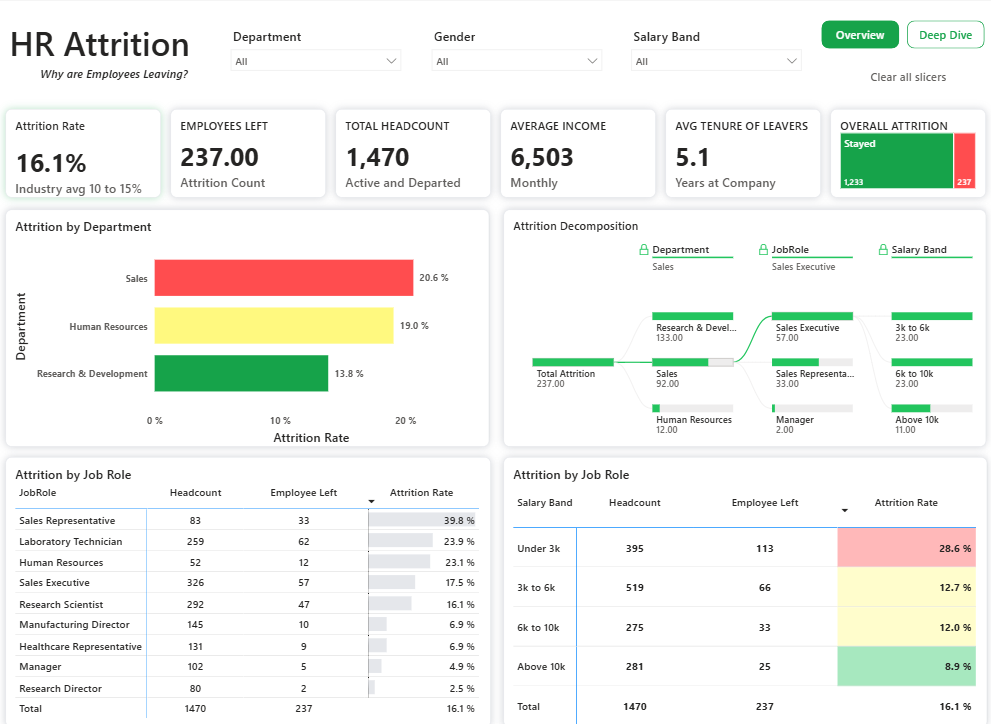

The page's visual inventory and layout, read from the dashboard file:
{"tool":"powerbi","page":{"name":"Overview","canvas":[1300,950],"ordinal":0},"visuals":[{"type":"textbox","box":[18.3,20.1,279.5,84],"z":0},{"type":"textbox","box":[18.3,76.7,279.5,51.2],"z":1000},{"type":"slicer","fields":{"Values":["hr_employees.Department"]},"box":[297.8,29.2,239.3,98.6],"z":2000},{"type":"slicer","fields":{"Values":["hr_employees.Gender"]},"box":[555.4,29.2,239.3,98.6],"z":3000},{"type":"slicer","fields":{"Values":["hr_employees.Salary Band"]},"box":[812.9,29.2,239.3,98.6],"z":4000},{"type":"actionButton","box":[1092.4,78.6,173.5,36.5],"z":5000},{"type":"pageNavigator","box":[1066.9,25.6,211.9,36.5],"z":6000},{"type":"cardVisual","title":"TOTAL HEADCOUNT","fields":{"Data":["hr_employees.Headcount"]},"box":[443,138.8,200,114],"z":7000},{"type":"cardVisual","title":"Attrition Rate","fields":{"Data":["hr_employees.Attrition Rate"]},"box":[18.3,138.8,200,114],"z":8000},{"type":"cardVisual","title":"AVERAGE INCOME","fields":{"Data":["hr_employees.Avg Monthly Income"]},"box":[655.3,138.8,200,114],"z":9000},{"type":"cardVisual","title":"AVG TENURE OF LEAVERS","fields":{"Data":["hr_employees.Avg Tenure of Leavers"]},"box":[867.7,138.8,200,114],"z":10000},{"type":"cardVisual","title":"EMPLOYEES LEFT","fields":{"Data":["hr_employees.Employee Left"]},"box":[230.6,138.8,200,114],"z":11000},{"type":"treemap","title":"OVERALL ATTRITION","fields":{"Values":["hr_employees.Employee Left","hr_employees.Employees Stayed"]},"box":[1080,138.8,200,114],"z":12000},{"type":"barChart","title":"Attrition by Department","fields":{"Category":["hr_employees.Department"],"Y":["hr_employees.Attrition Rate"]},"box":[18.3,268.5,622.9,305.1],"z":13000},{"type":"decompositionTreeVisual","title":"Attrition Decomposition","fields":{"Analyze":["hr_employees.Employee Left"],"ExplainBy":["hr_employees.Department","hr_employees.JobRole","hr_employees.Salary Band"]},"box":[657.7,268.5,621.1,305.1],"z":14000},{"type":"pivotTable","title":"Attrition by Job Role","fields":{"Rows":["hr_employees.JobRole"],"Values":["hr_employees.Headcount","hr_employees.Employee Left","hr_employees.Attrition Rate"]},"box":[17.4,586.2,624.8,349],"z":15000},{"type":"pivotTable","title":"Attrition by Job Role","fields":{"Rows":["hr_employees.Salary Band"],"Values":["hr_employees.Headcount","hr_employees.Employee Left","hr_employees.Attrition Rate"]},"box":[657.6,586.2,622.8,349],"z":16000}]}

Visuals, with their boxes in screenshot pixels (x1, y1, x2, y2), scaled from the page's 1300x950 canvas onto the 991x724 screenshot:
textbox: bbox(14, 15, 227, 79)
textbox: bbox(14, 58, 227, 97)
slicer - hr_employees.Department: bbox(227, 22, 409, 97)
slicer - hr_employees.Gender: bbox(423, 22, 606, 97)
slicer - hr_employees.Salary Band: bbox(620, 22, 802, 97)
actionButton: bbox(833, 60, 965, 88)
pageNavigator: bbox(813, 20, 975, 47)
"TOTAL HEADCOUNT" cardVisual: bbox(338, 106, 490, 193)
"Attrition Rate" cardVisual: bbox(14, 106, 166, 193)
"AVERAGE INCOME" cardVisual: bbox(500, 106, 652, 193)
"AVG TENURE OF LEAVERS" cardVisual: bbox(661, 106, 814, 193)
"EMPLOYEES LEFT" cardVisual: bbox(176, 106, 328, 193)
"OVERALL ATTRITION" treemap: bbox(823, 106, 976, 193)
"Attrition by Department" barChart: bbox(14, 205, 489, 437)
"Attrition Decomposition" decompositionTreeVisual: bbox(501, 205, 975, 437)
"Attrition by Job Role" pivotTable: bbox(13, 447, 490, 713)
"Attrition by Job Role" pivotTable: bbox(501, 447, 976, 713)
